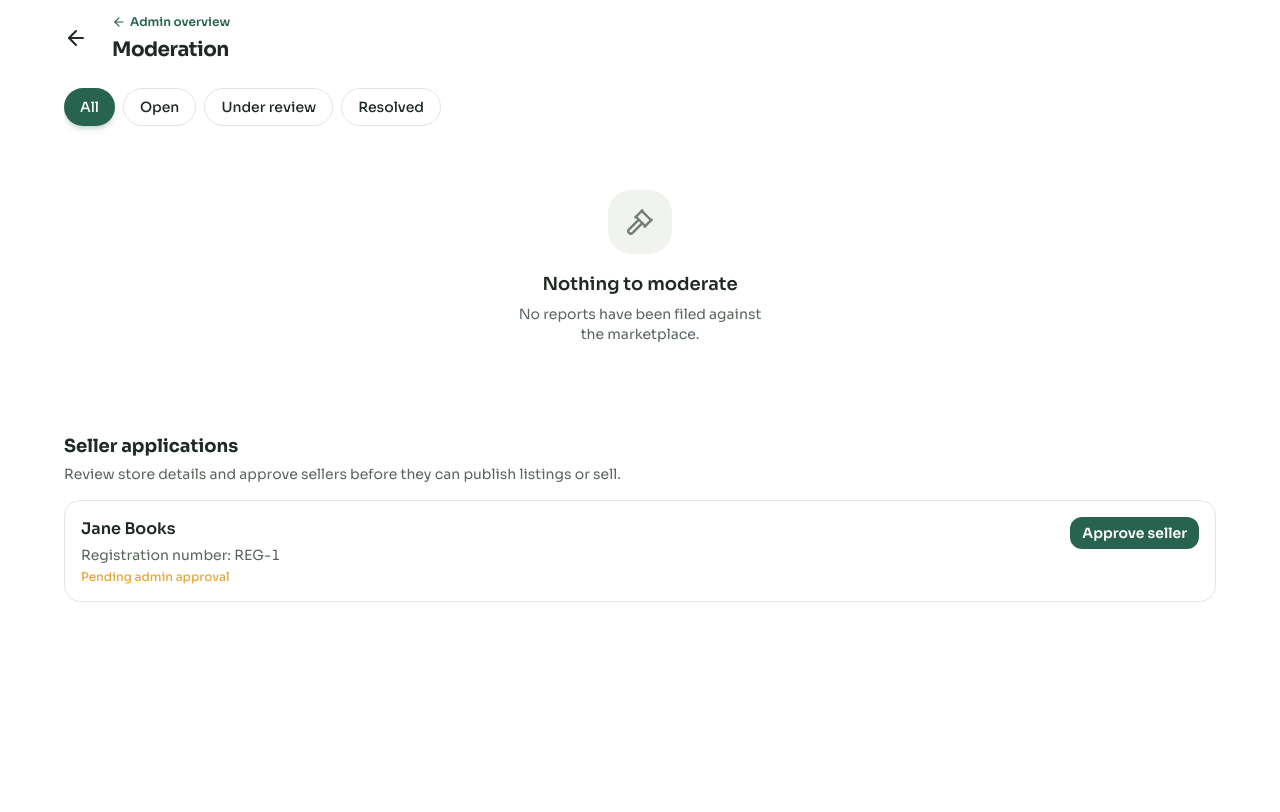
Moderation › lets admin approve a pending seller application
The image size is (1280, 812).
Expected: the heading "Jane Books" is shown, [81, 518, 176, 539]
Click the button "Approve seller". click: (1135, 533)
box: [1070, 517, 1199, 549]
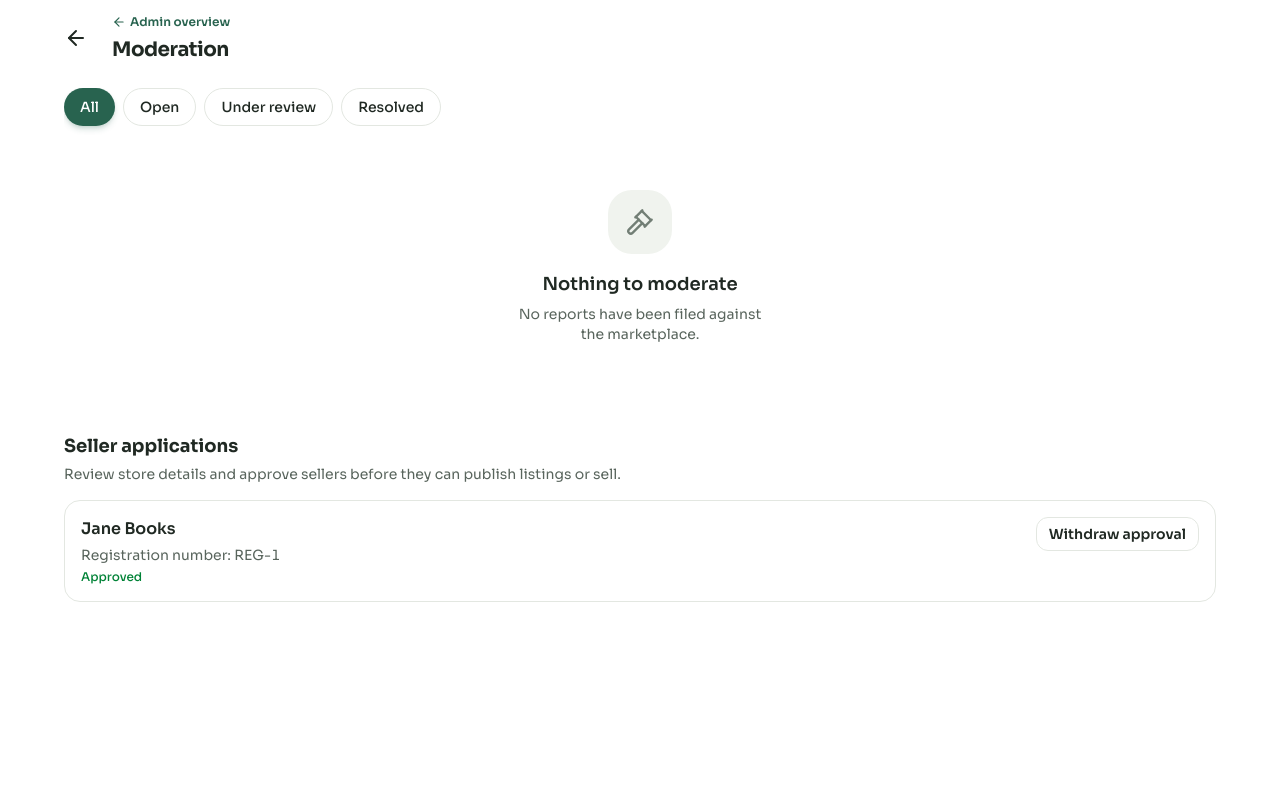
Expected: the text "Approved" is shown, [81, 569, 142, 584]
